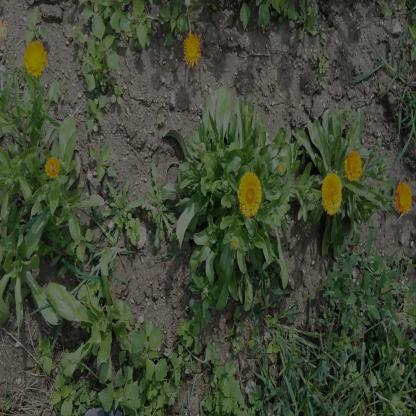marigold: (238, 172, 260, 216), (322, 173, 344, 214), (22, 40, 47, 76), (182, 33, 202, 66), (394, 181, 413, 214), (346, 152, 362, 182), (43, 154, 61, 178)
